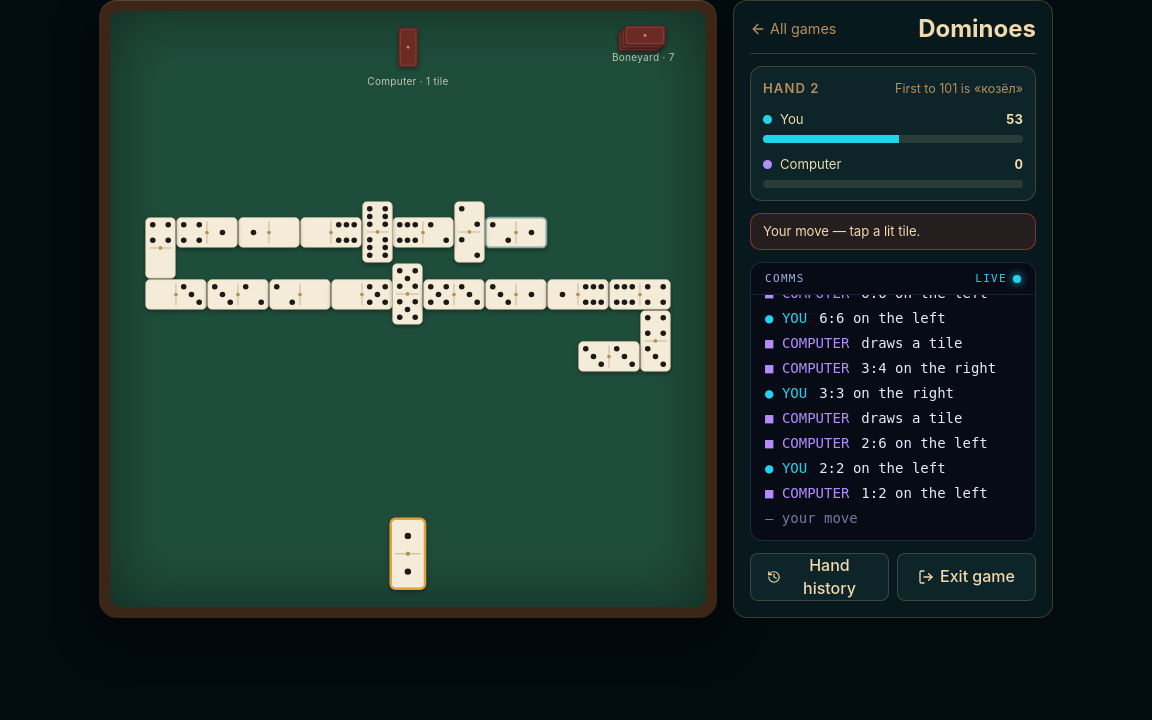
DominoesPage, against the computer › sums up a finished hand and holds the computer until the person plays on
The image size is (1152, 720).
(page scrolled)
Click the button named "1:1, fits".
click(408, 553)  # box [390, 518, 426, 589]
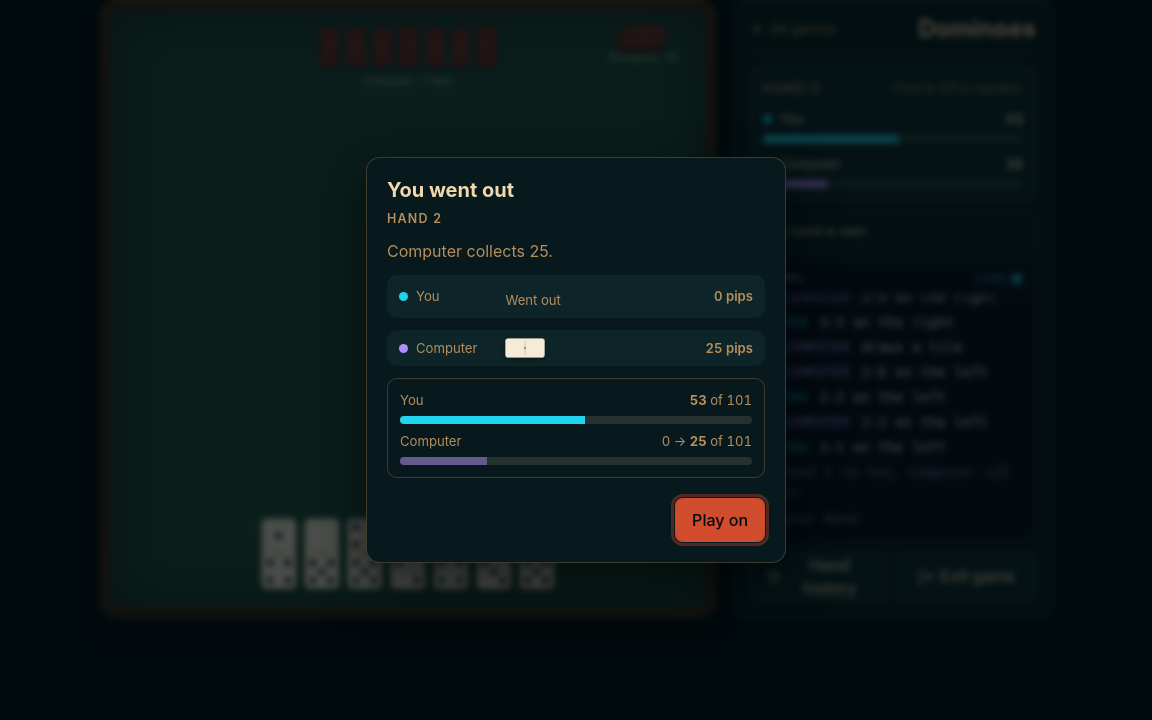
expect the text "Computer collects 25." is shown: met, box [387, 241, 553, 261]
expect the message reads "The hand is over.": met, box [763, 223, 869, 239]
Click the button "Play on".
click(720, 520)  # box [675, 498, 765, 542]
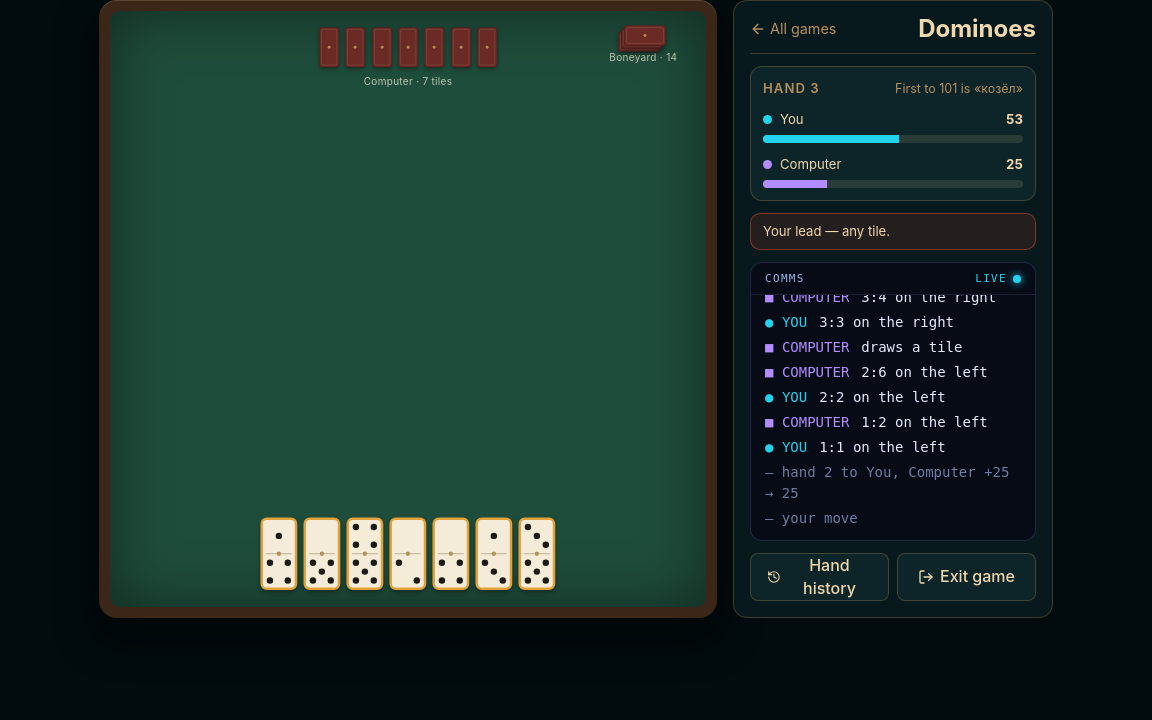
expect the dialog is gone: met
